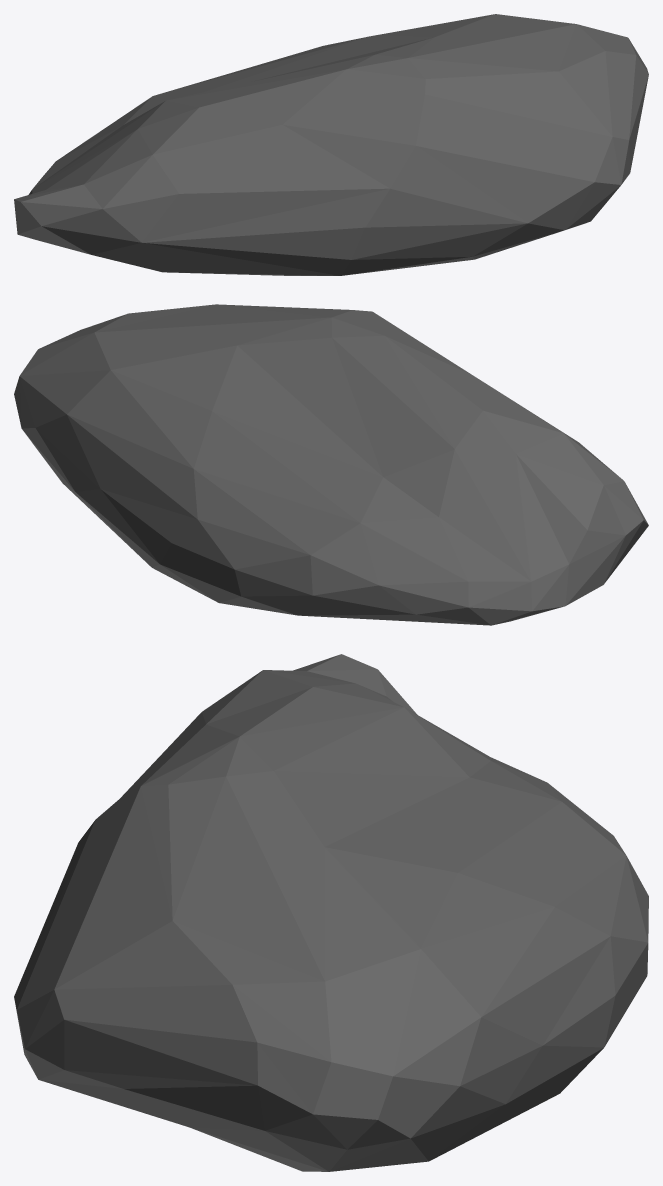
The model's file is rock.gltf.
The picture shows the model from 3 angles, top to bottom: view 1: azimuth 30°, elevation 25°; view 2: azimuth 150°, elevation 25°; view 3: azimuth 270°, elevation 25°; orthographic projection. The views are drawn at different scales.
Parts seen in each view (by area): view 1: Icosphere.002; view 2: Icosphere.002; view 3: Icosphere.002.
Part boxes in pixels (x1=…): Icosphere.002: x1=14, y1=14, x2=648, y2=275; Icosphere.002: x1=14, y1=304, x2=648, y2=625; Icosphere.002: x1=14, y1=654, x2=648, y2=1171.
Size of the model in its own units: 0.3674 by 0.1096 by 0.221.
1 material, 1 textured.
